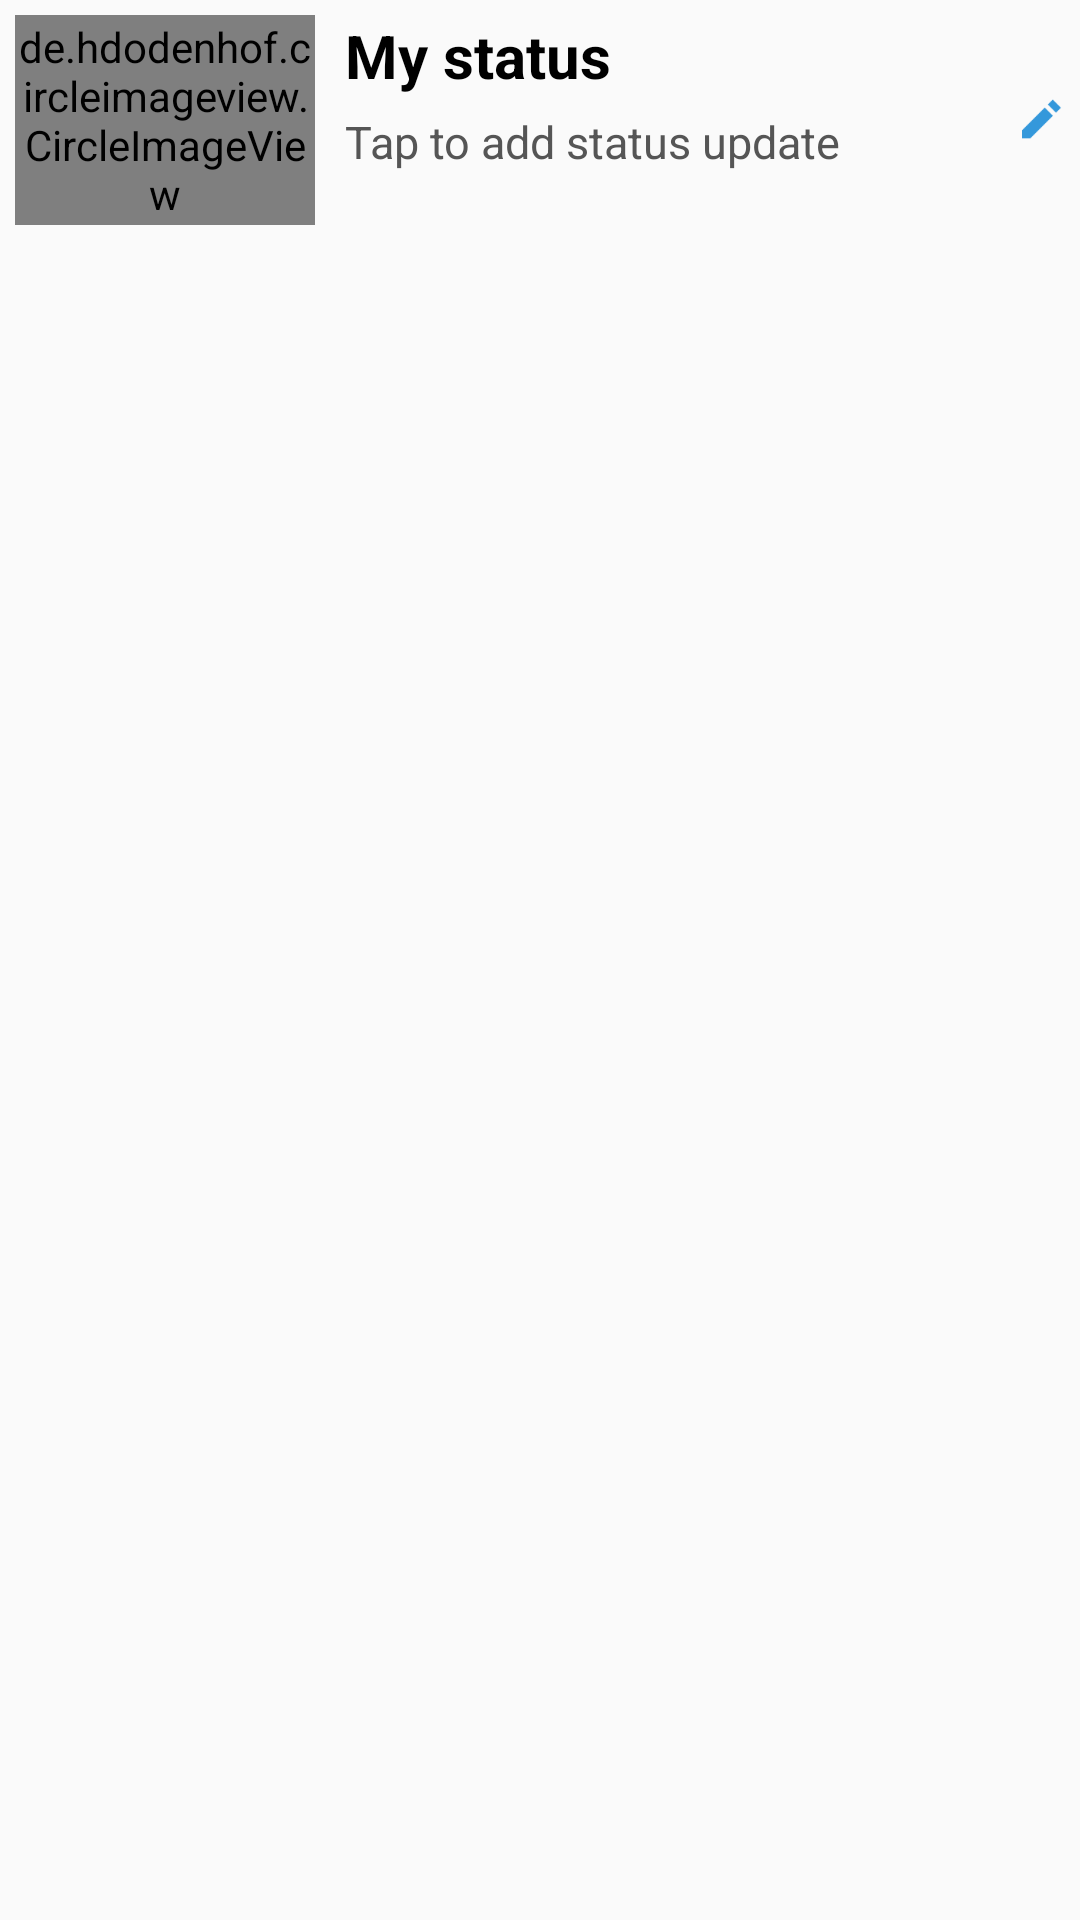

Named icons in this screenshot (1080w x 1920h) and their bounding boxes, [x1,y1,x2,y2]:
edit: [1022,99,1061,139]
